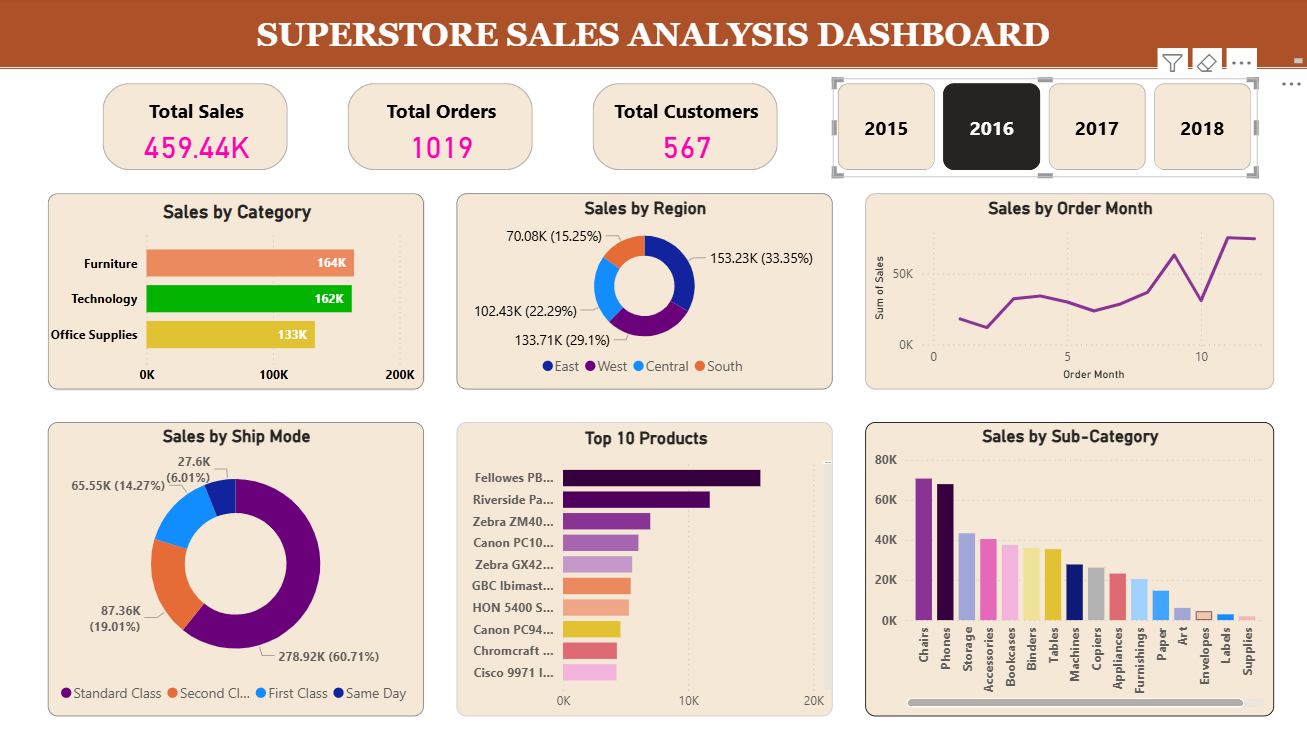

The dashboard page shown, as its layout file describes it:
{"tool":"powerbi","page":{"name":"Page 1","canvas":[1280,720],"ordinal":0},"visuals":[{"type":"advancedSlicerVisual","fields":{"Values":["sales_modified.Order Year"]},"box":[816,80,416,96],"z":0},{"type":"cardVisual","fields":{"Data":["Sum(sales_modified.Sales)"]},"box":[96,80,192,96],"z":1000},{"type":"textbox","title":"SUPERSTORE SALES ANALYSIS DASHBOARD","box":[0,0,1280,70],"z":2000},{"type":"cardVisual","fields":{"Data":["sales_modified.Total Orders"]},"box":[336,80,192,96],"z":2001},{"type":"cardVisual","fields":{"Data":["sales_modified.Total Customers"]},"box":[576,80,192,96],"z":2002},{"type":"barChart","title":"Sales by Category","fields":{"Category":["sales_modified.Category"],"Y":["Sum(sales_modified.Sales)"]},"box":[48,192,368,192],"z":2003},{"type":"donutChart","title":"Sales by Region","fields":{"Category":["sales_modified.Region"],"Y":["Sum(sales_modified.Sales)"]},"box":[448,192,368,192],"z":2004},{"type":"donutChart","title":"Sales by Ship Mode","fields":{"Category":["sales_modified.Ship Mode"],"Y":["Sum(sales_modified.Sales)"]},"box":[48,416,368,288],"z":2005},{"type":"barChart","title":"Top 10 Products","fields":{"Category":["sales_modified.Product Name"],"Y":["Sum(sales_modified.Sales)"]},"box":[448,416,368,288],"z":2006},{"type":"columnChart","title":"Sales by Sub-Category","fields":{"Category":["sales_modified.Sub-Category"],"Y":["Sum(sales_modified.Sales)"]},"box":[848,416,400,288],"z":2007},{"type":"lineChart","title":"Sales by Order Month","fields":{"Category":["sales_modified.Order Month"],"Y":["Sum(sales_modified.Sales)"]},"box":[848,192,400,192],"z":2008}]}

Visuals, with their boxes in screenshot pixels (x1, y1, x2, y2), scaled from the page's 1280x720 canvas onto the 1307x732 screenshot:
advancedSlicerVisual - sales_modified.Order Year: [left=833, top=81, right=1258, bottom=179]
cardVisual - Sum(sales_modified.Sales): [left=98, top=81, right=294, bottom=179]
"SUPERSTORE SALES ANALYSIS DASHBOARD" textbox: [left=0, top=0, right=1306, bottom=71]
cardVisual - sales_modified.Total Orders: [left=343, top=81, right=539, bottom=179]
cardVisual - sales_modified.Total Customers: [left=588, top=81, right=784, bottom=179]
"Sales by Category" barChart: [left=49, top=195, right=425, bottom=390]
"Sales by Region" donutChart: [left=457, top=195, right=833, bottom=390]
"Sales by Ship Mode" donutChart: [left=49, top=423, right=425, bottom=716]
"Top 10 Products" barChart: [left=457, top=423, right=833, bottom=716]
"Sales by Sub-Category" columnChart: [left=866, top=423, right=1274, bottom=716]
"Sales by Order Month" lineChart: [left=866, top=195, right=1274, bottom=390]
